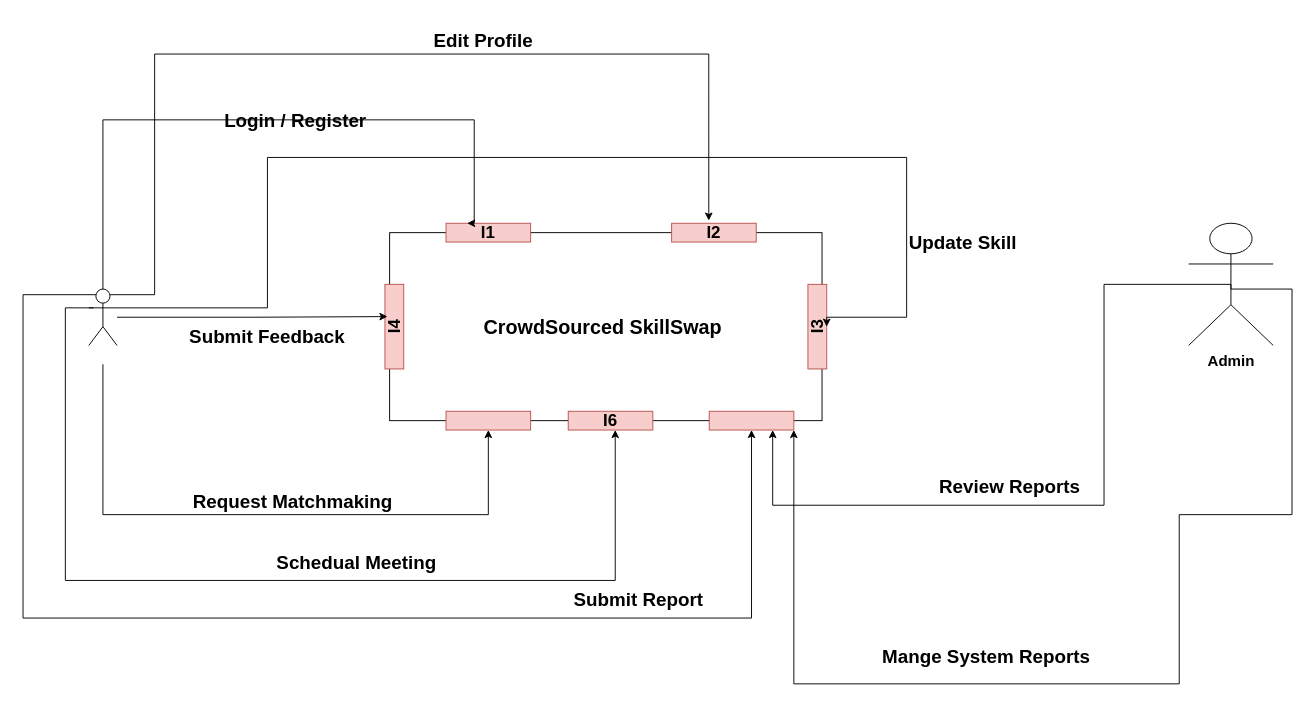
Image size: 1316x708. Some labels were removed from this diagram. The shapes that lost their labels are listed below. From the top down, each one's centre as x and y in pixels, then its label:
the point at 102,316: USER
the point at 488,420: I5
the point at 751,420: I7
